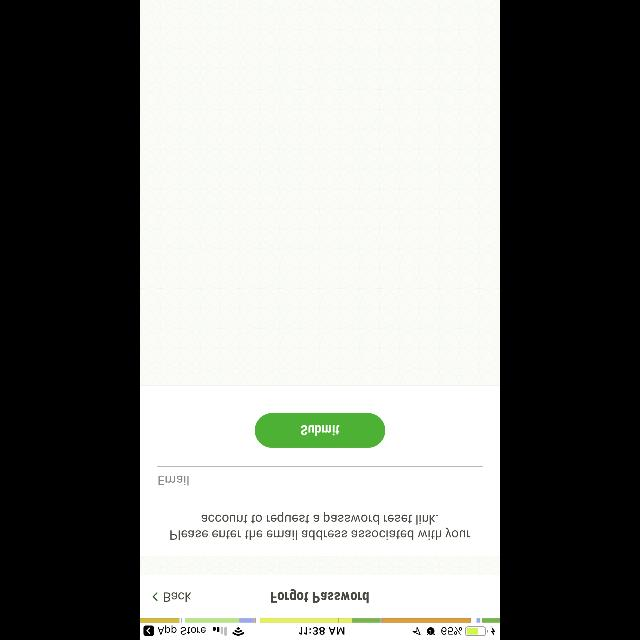icon: (154, 592, 158, 600)
input: (158, 466, 482, 486)
text: (170, 512, 470, 540), (271, 589, 369, 603), (158, 475, 190, 485), (164, 592, 192, 602)
textbutton: (254, 412, 386, 448)
uppertaskbar: (140, 624, 500, 640)
